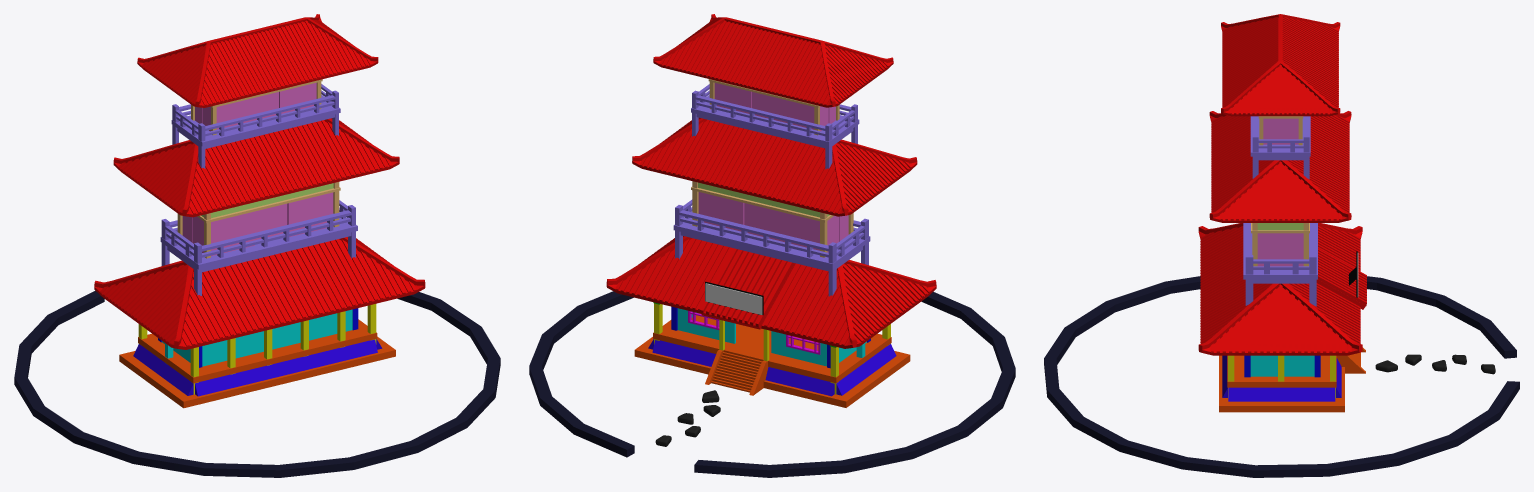
File: hanok_building.fbx
3 views of the same model, side by side, from view 1: azimuth 30°, elevation 25°; view 2: azimuth 150°, elevation 25°; view 3: azimuth 270°, elevation 25° (orthographic).
Parts seen in each view (by area): view 1: hanok_building; view 2: hanok_building; view 3: hanok_building.
Part boxes in pixels (left/top/right/bottom): hanok_building: left=14, top=14, right=500, bottom=477; hanok_building: left=529, top=14, right=1015, bottom=477; hanok_building: left=1044, top=14, right=1519, bottom=477.
Bounding box in the file's own units: 1255 × 988 × 1255.
